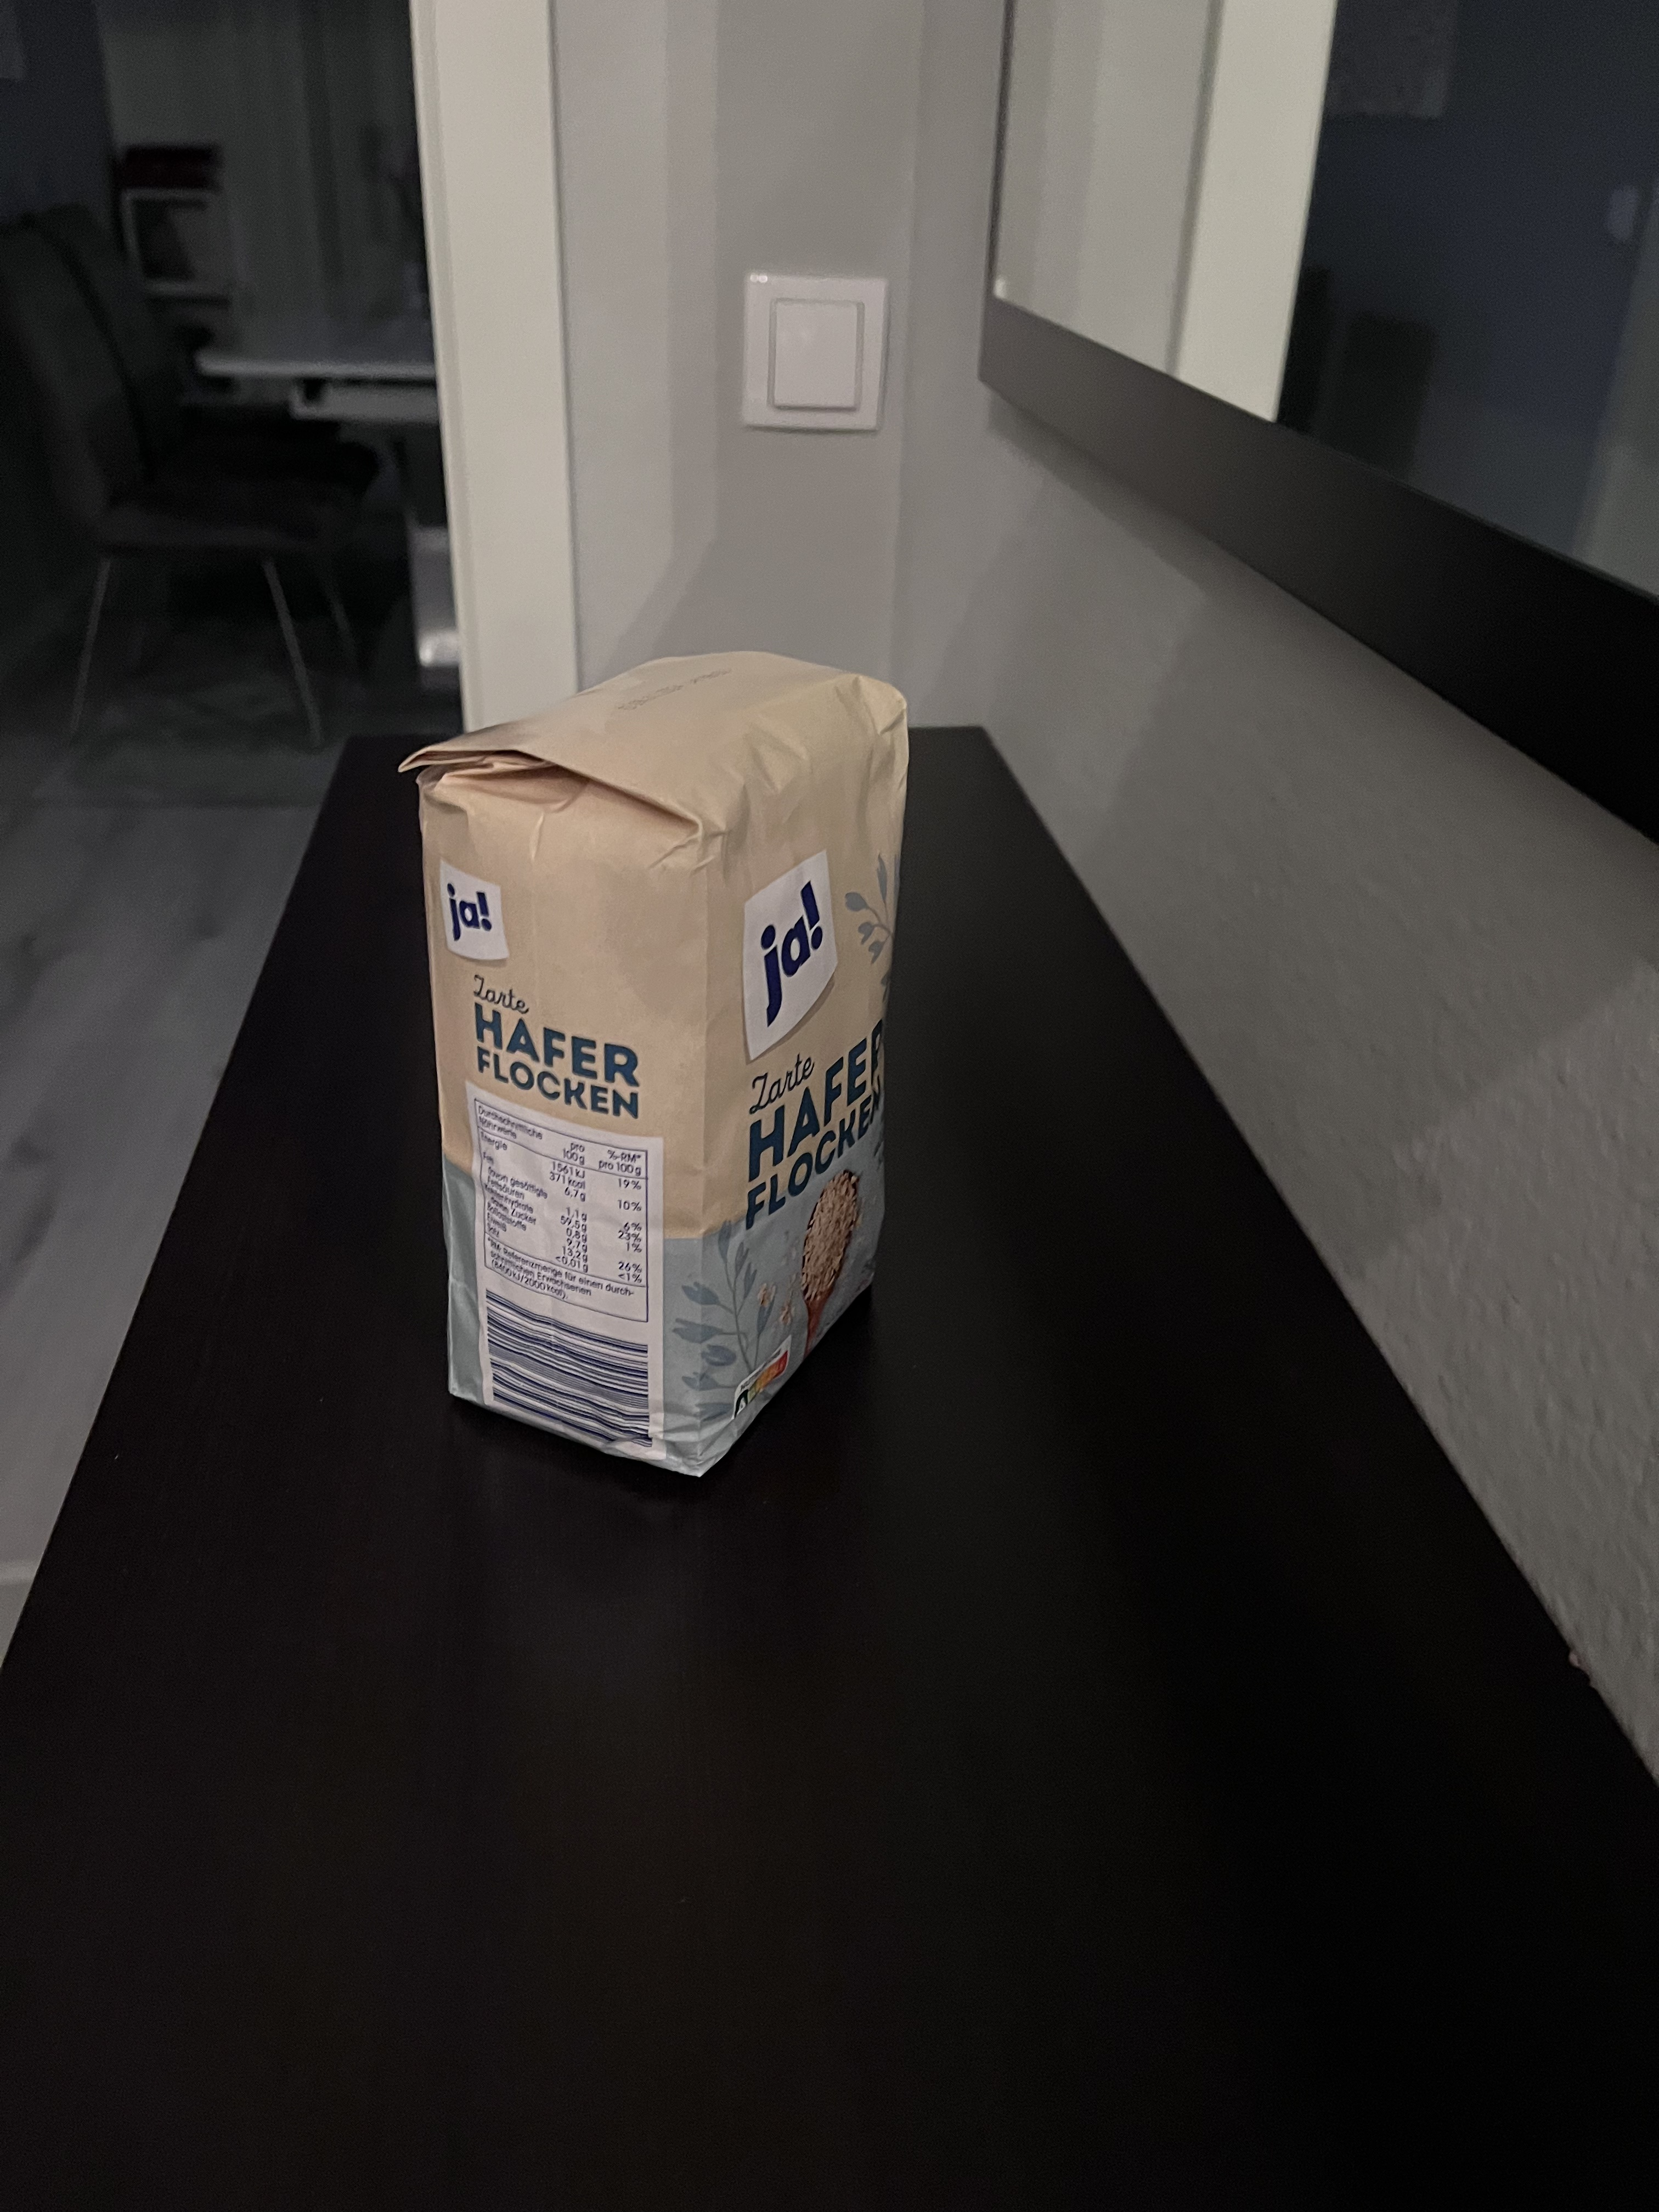haferflocken_ja: (397, 653, 925, 1484)
